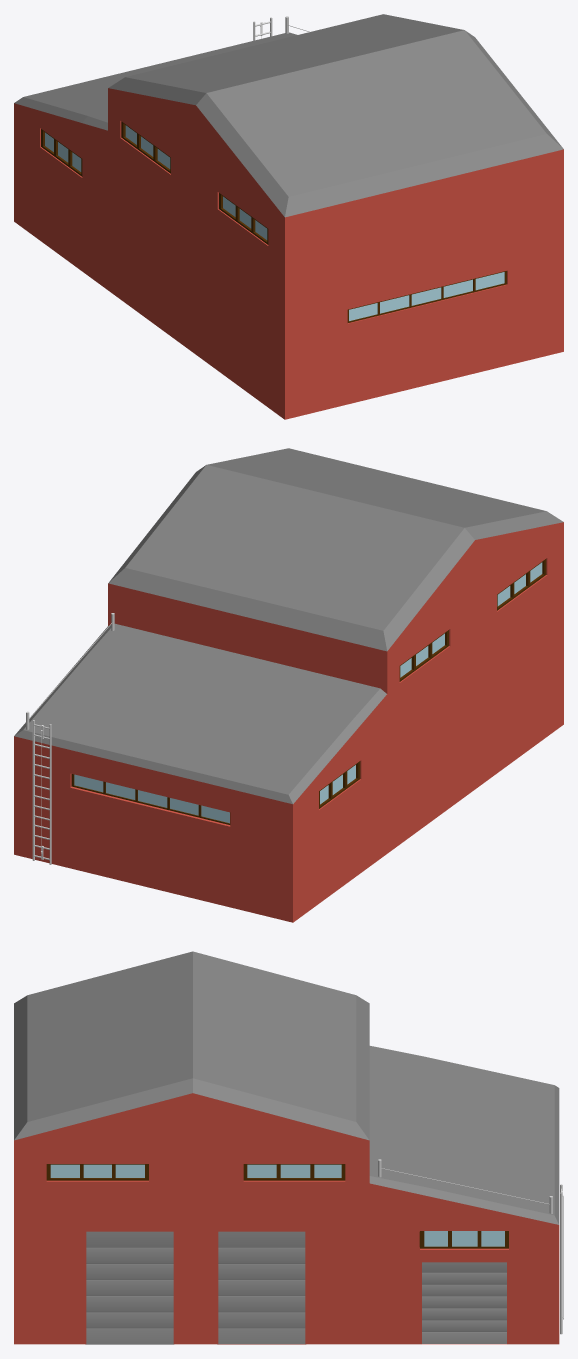
File: factory.glb
3 renders of one model, top to bottom at view 1: azimuth 30°, elevation 25°; view 2: azimuth 150°, elevation 25°; view 3: azimuth 270°, elevation 25°, orthographic.
Parts seen in each view (by area): view 1: Fabrika; view 2: Fabrika, Merdiven; view 3: Fabrika, object 3, object 2, object 4.
Part boxes in pixels (x1,y1,x2,y2): Fabrika: [14, 14, 563, 419]; Fabrika: [14, 448, 563, 922]; Merdiven: [32, 720, 51, 864]; Fabrika: [14, 951, 559, 1344]; object 3: [85, 1231, 173, 1344]; object 2: [217, 1231, 305, 1344]; object 4: [422, 1262, 506, 1343].
Bounding box in the file's own units: 1.76 × 1.56 × 2.98.
